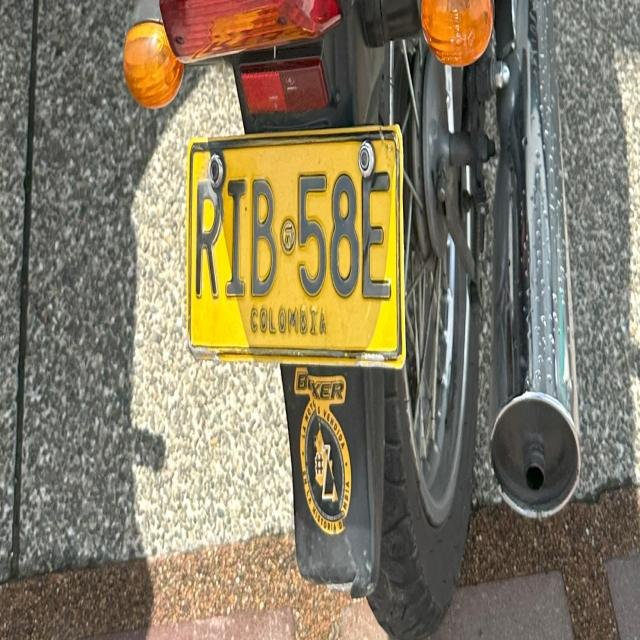number plate: (187, 125, 404, 366)
